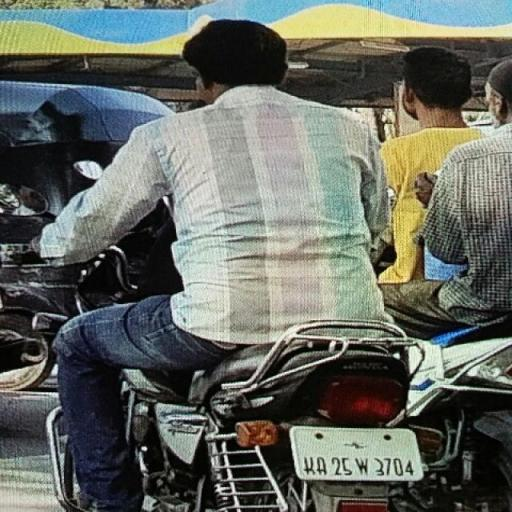bike: (32, 17, 467, 512)
numberplate: (292, 426, 422, 484)
withouthelmet: (192, 20, 282, 86)
